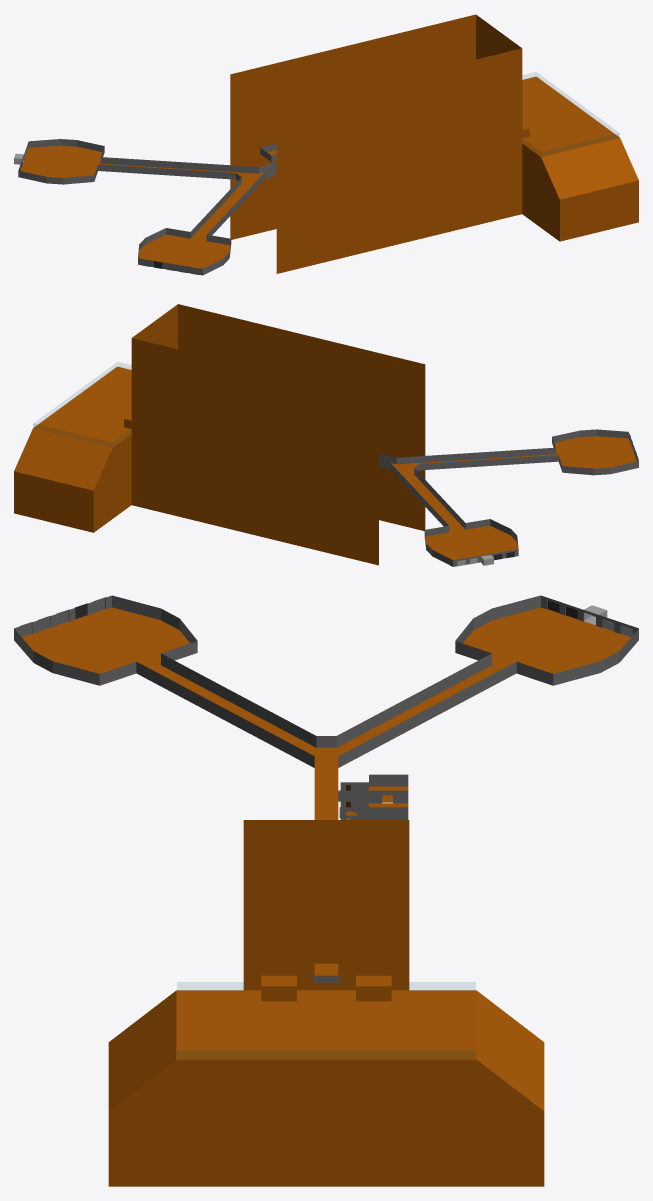
File: WB_nivel3_Bugtants.fbx
3 renders of one model, top to bottom at view 1: azimuth 30°, elevation 25°; view 2: azimuth 150°, elevation 25°; view 3: azimuth 270°, elevation 25°, orthographic. The views are drawn at different scales.
Parts seen in each view (by area): view 1: polySurface1880; view 2: polySurface1880; view 3: polySurface1880.
Part boxes in pixels (box(x1,y1,x2,y2)): polySurface1880: box(14, 14, 638, 275); polySurface1880: box(14, 304, 638, 566); polySurface1880: box(14, 595, 638, 1186).
Bounding box in the file's own units: 221 × 70.1 × 134.
